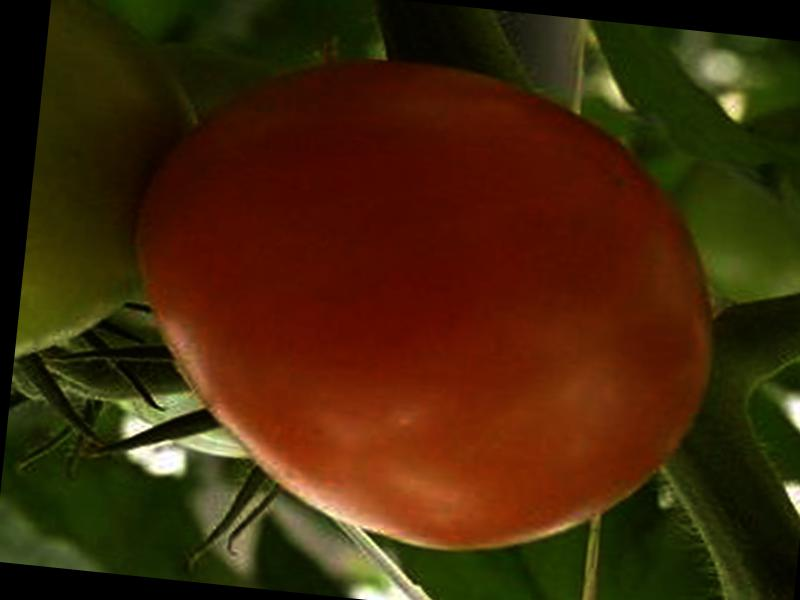Tomato: (109, 36, 738, 577)
